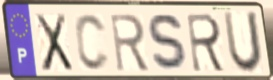C: (73, 12, 112, 74)
R: (108, 12, 152, 74), (185, 12, 228, 75)
S: (146, 12, 192, 74)
U: (221, 10, 265, 76)
X: (33, 12, 75, 74)
